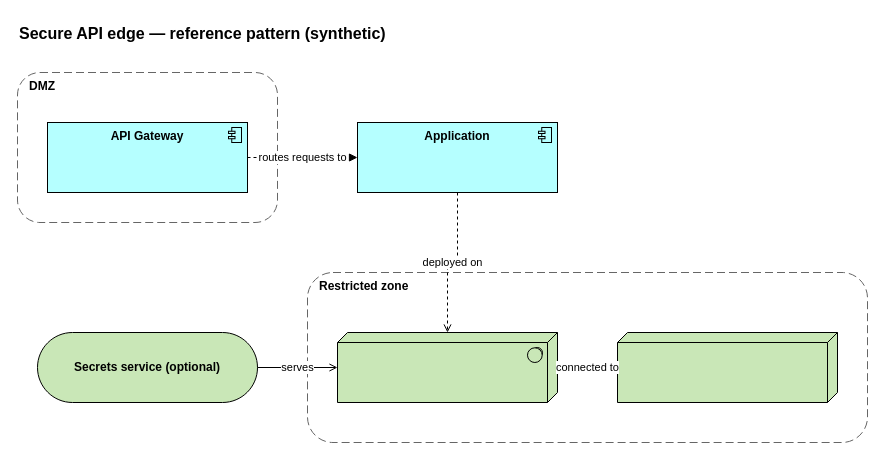
This 885x460 diagram has some shape labels left out. The centre of each missing label's shape, as x and y in pixels:
Container platform (1..n): [447,367]
Private network (optional): [727,367]
